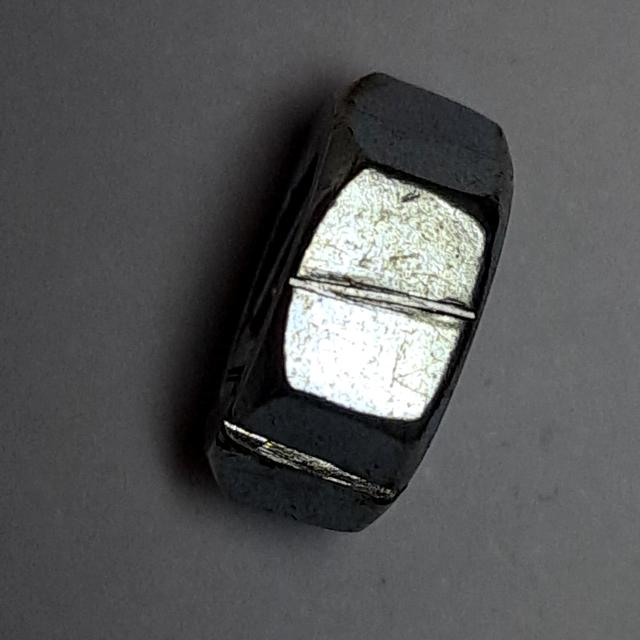Side_Scratches: (184, 59, 524, 550)
